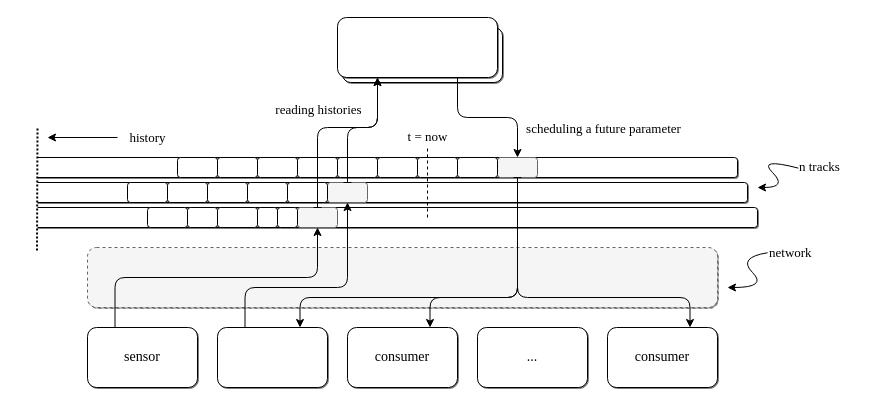
The diagram is 874 pixels wide and 406 high, and some of its shapes have lost their labels. Each missing label, with the centre of its shape:
"consumer + sensor" goes at (x=272, y=357).
"track generators" goes at (x=417, y=47).
